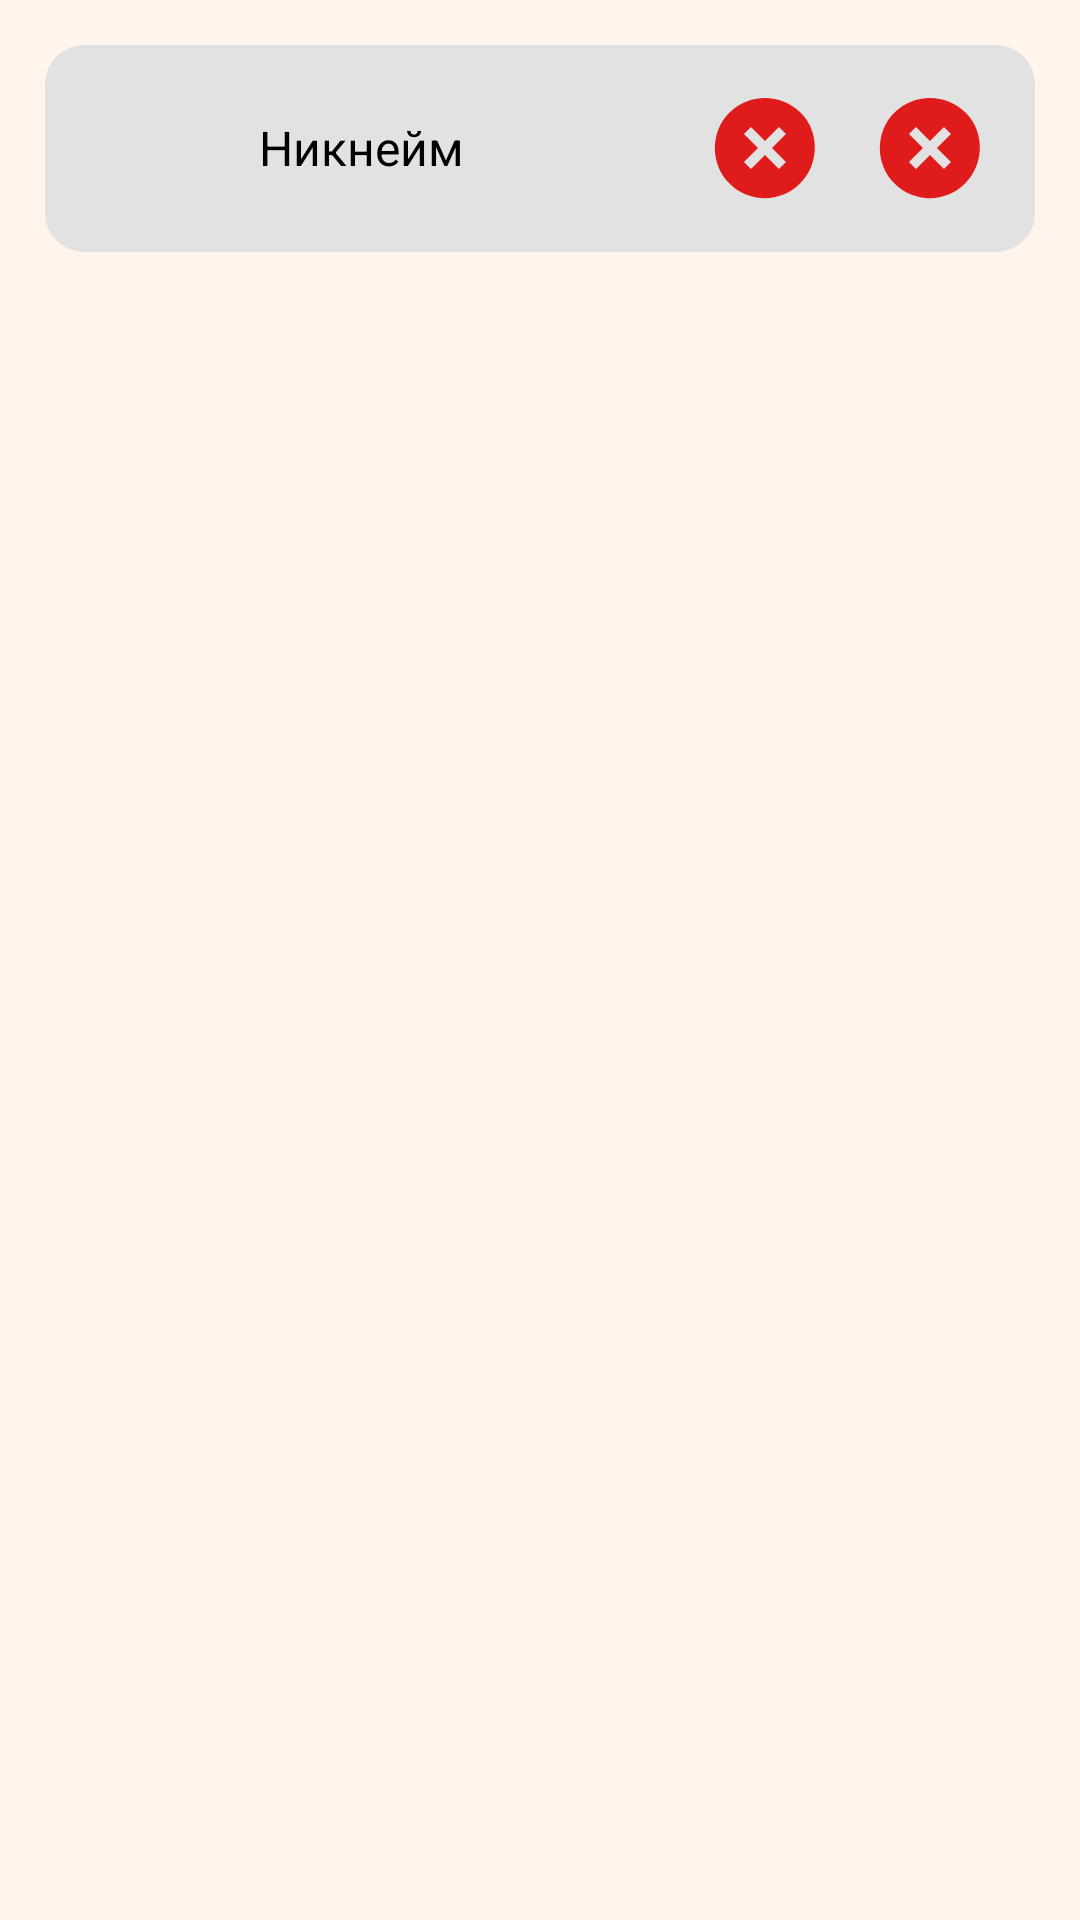

Screen size 1080x1920. Icon name, then its box in pixels as (x1, y1, x2, y2):
deny: (714, 98, 815, 199), (879, 98, 980, 199)
